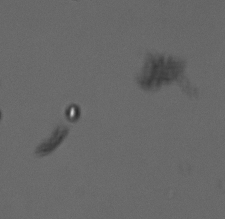Living Cell: (65, 102, 80, 121)
